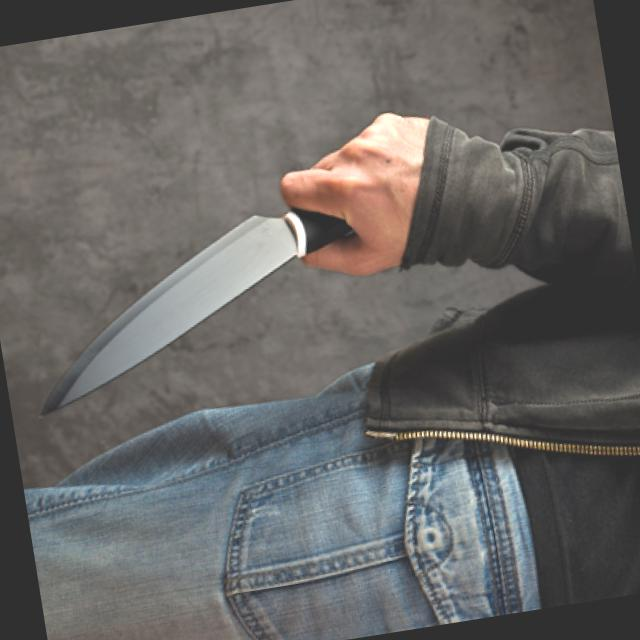knife: (0, 114, 409, 425)
